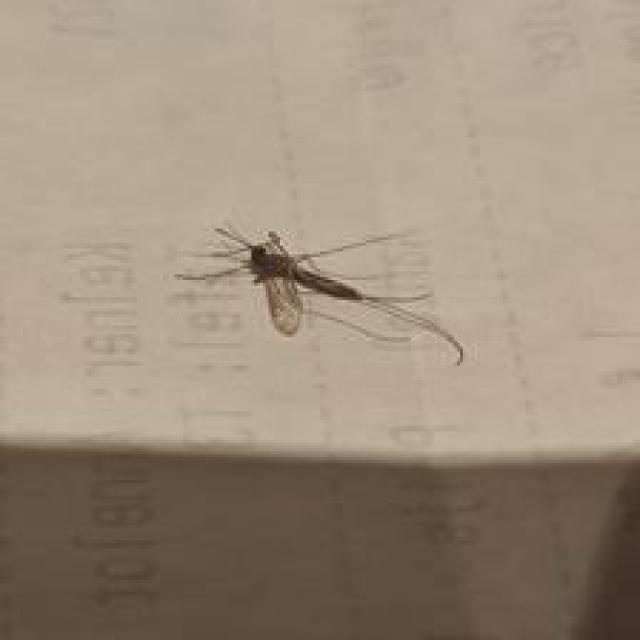Culex: (173, 220, 464, 369)
